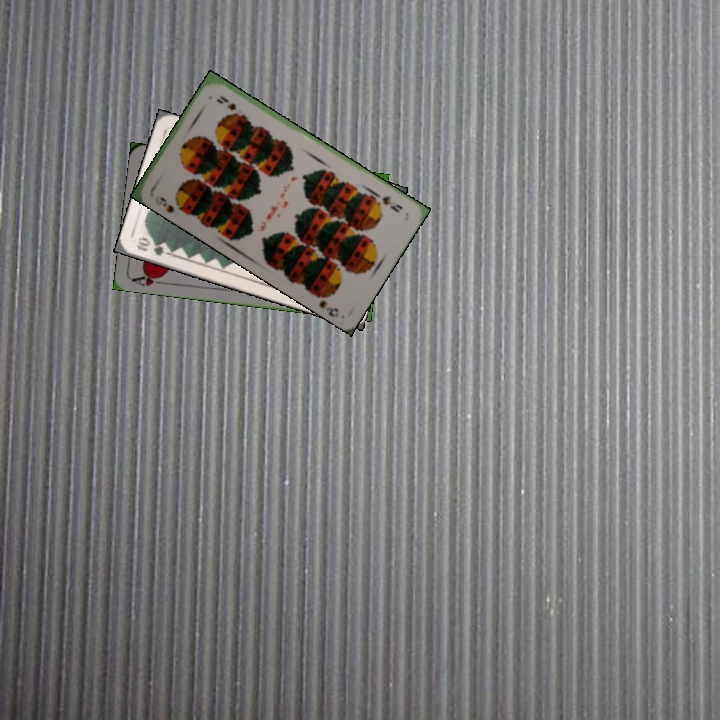G10: (132, 234, 172, 259)
HA: (128, 269, 169, 289)
S9: (371, 190, 406, 215), (156, 193, 186, 216)
